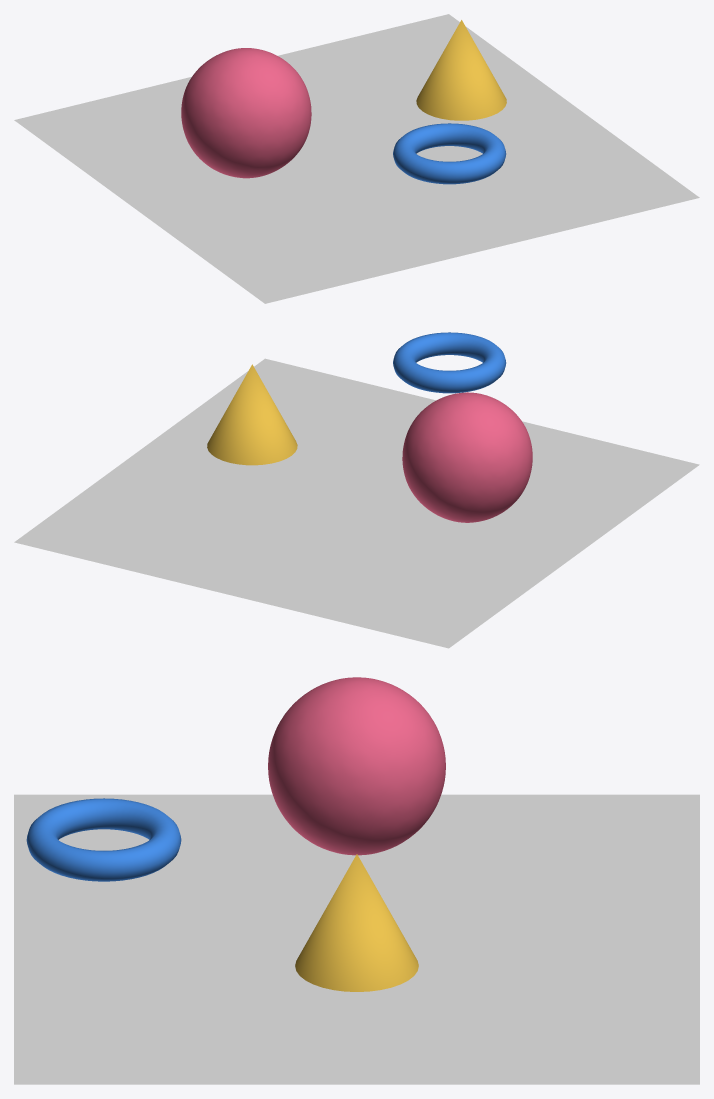
File: model-BhXOvGiC.glb
The picture shows the model from 3 angles, top to bottom: view 1: azimuth 30°, elevation 25°; view 2: azimuth 150°, elevation 25°; view 3: azimuth 270°, elevation 25°; orthographic projection. The views are drawn at different scales.
Parts seen in each view (by area): view 1: Plane, Icosphere, Cone, Torus; view 2: Plane, Icosphere, Cone, Torus; view 3: Plane, Icosphere, Cone, Torus.
Part boxes in pixels (<box>): Plane: <box>14,14,699,303</box>; Icosphere: <box>181,48,311,178</box>; Cone: <box>416,20,506,120</box>; Torus: <box>393,123,506,184</box>; Plane: <box>14,358,699,648</box>; Icosphere: <box>402,392,532,522</box>; Cone: <box>207,364,297,465</box>; Torus: <box>393,332,506,393</box>; Plane: <box>14,794,699,1084</box>; Icosphere: <box>268,677,445,855</box>; Cone: <box>295,854,418,991</box>; Torus: <box>26,798,181,881</box>.
Size of the model in its own units: 11.08 by 3.22 by 11.08.
